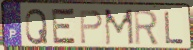E: (51, 7, 78, 47)
L: (163, 11, 185, 46)
M: (103, 8, 136, 47)
P: (79, 9, 104, 46)
Q: (24, 7, 49, 45)
R: (133, 9, 161, 47)
